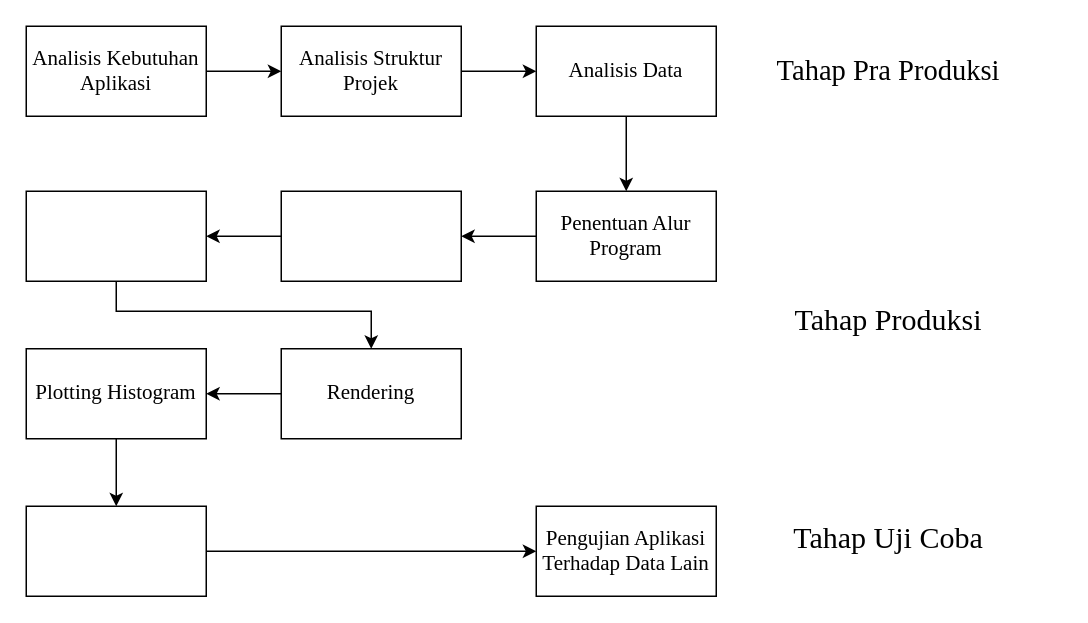
Some shapes in this 1088 by 623 pixel diagram are drawn without their labels. Here are the shapes that lost their labels. From the top down, the centre of each, then its label:
At pixel 115 235: "Kalkukasi Center Of Mass".
At pixel 370 235: "Parsing File BVH".
At pixel 115 550: "Pengujian Aplikasi".
